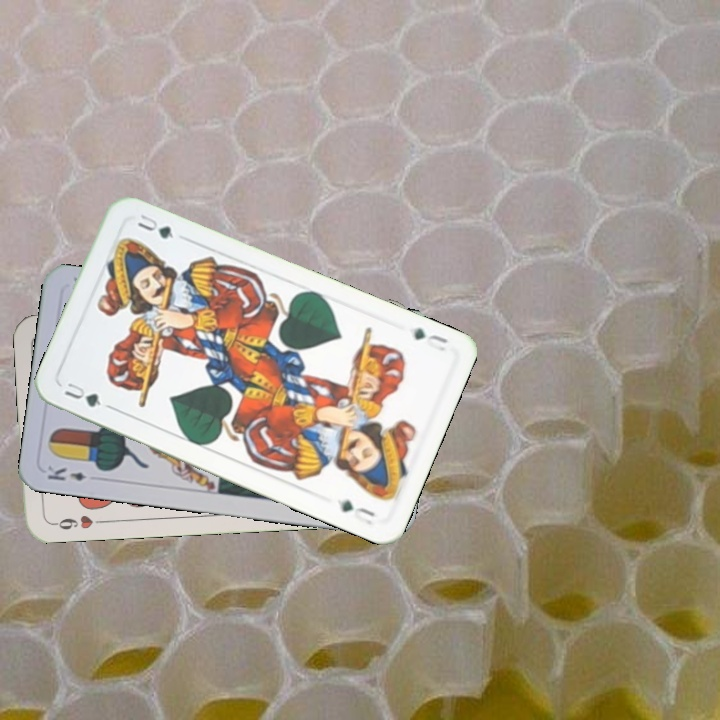EK: (43, 462, 89, 484)
GU: (60, 378, 104, 410), (409, 323, 451, 354)
H9: (48, 511, 107, 533)
